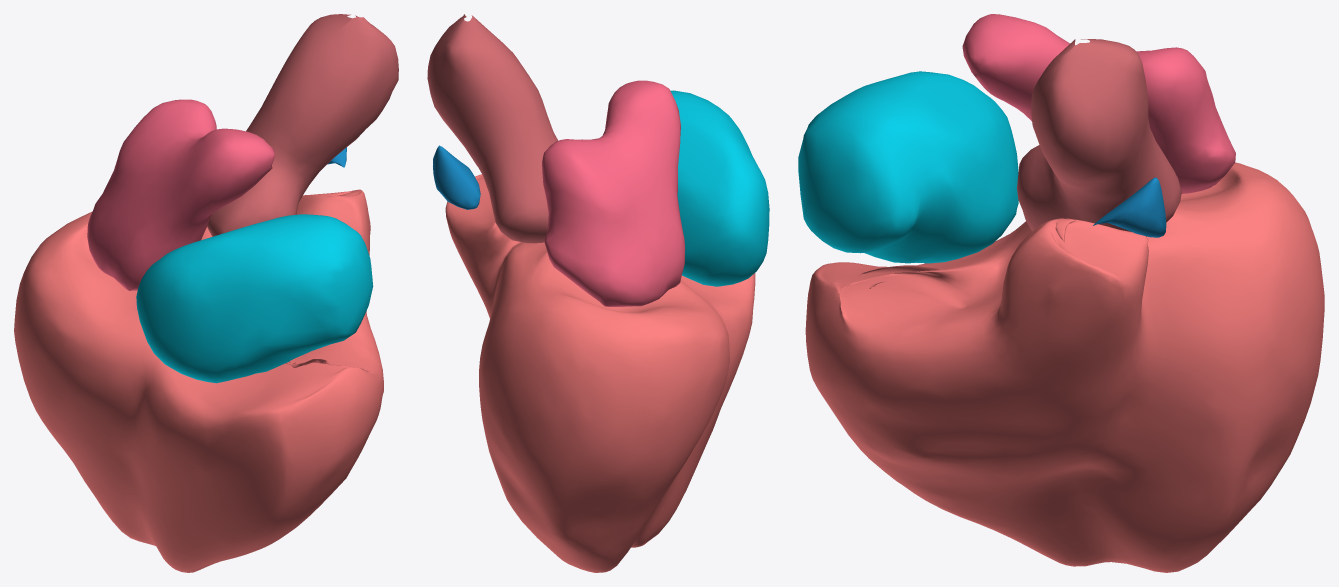
The model's file is frame_13.glb.
The picture shows the model from 3 angles, left to right: view 1: azimuth 30°, elevation 25°; view 2: azimuth 150°, elevation 25°; view 3: azimuth 270°, elevation 25°; orthographic projection. The views are drawn at different scales.
Parts seen in each view (by area): view 1: Renderer Node; view 2: Renderer Node; view 3: Renderer Node.
Part boxes in pixels (box(x1,y1,x2,y2)): Renderer Node: box(14, 14, 398, 572); Renderer Node: box(427, 14, 769, 572); Renderer Node: box(798, 14, 1324, 572).
Bounding box in the file's own units: 103 × 154 × 117.
